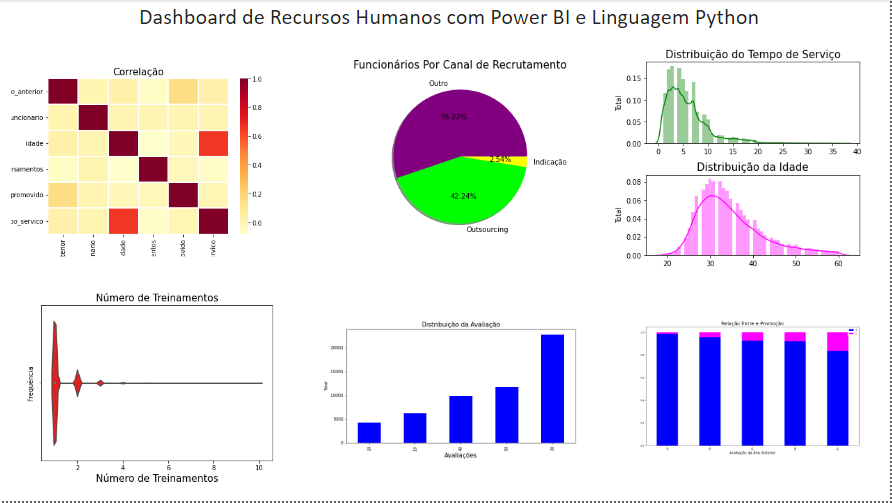

This screenshot's page, from the dashboard's own definition file:
{"tool":"powerbi","page":{"name":"Página 1","canvas":[1280,720],"ordinal":0},"visuals":[{"type":"textbox","box":[10.1,0,1270.4,57.5],"z":0},{"type":"pythonVisual","fields":{"Values":["dadosRH_modificado.aval_ano_anterior","dadosRH_modificado.id_funcionario","dadosRH_modificado.idade","dadosRH_modificado.numero_treinamentos","dadosRH_modificado.promovido","dadosRH_modificado.tempo_servico"]},"box":[10.8,57,428.6,331.5],"z":1},{"type":"pythonVisual","fields":{"Values":["dadosRH_modificado.canal_recrutamento"]},"box":[439.4,57,434.8,331.5],"z":2},{"type":"pythonVisual","fields":{"Values":["dadosRH_modificado.tempo_servico","dadosRH_modificado.id_funcionario"]},"box":[874.2,66.3,405.5,161.9],"z":3},{"type":"pythonVisual","fields":{"Values":["dadosRH_modificado.idade","dadosRH_modificado.id_funcionario"]},"box":[874.2,228.2,405.5,160.3],"z":4},{"type":"pythonVisual","fields":{"Values":["dadosRH_modificado.numero_treinamentos","dadosRH_modificado.id_funcionario"]},"box":[0,388.5,439.4,322.2],"z":5},{"type":"pythonVisual","fields":{"Values":["dadosRH_modificado.aval_ano_anterior","dadosRH_modificado.id_funcionario"]},"box":[439.4,388.5,434.8,331.5],"z":6},{"type":"pythonVisual","fields":{"Values":["dadosRH_modificado.aval_ano_anterior","dadosRH_modificado.promovido","dadosRH_modificado.id_funcionario"]},"box":[874.2,388.5,405.5,331.5],"z":7}]}

Visuals, with their boxes in screenshot pixels (x1, y1, x2, y2), scaled from the page's 1280x720 canvas onto the 892x503 screenshot:
textbox: select_region(7, 0, 891, 40)
pythonVisual - dadosRH_modificado.aval_ano_anterior x dadosRH_modificado.id_funcionario: select_region(8, 40, 306, 271)
pythonVisual - dadosRH_modificado.canal_recrutamento: select_region(306, 40, 609, 271)
pythonVisual - dadosRH_modificado.tempo_servico x dadosRH_modificado.id_funcionario: select_region(609, 46, 891, 159)
pythonVisual - dadosRH_modificado.idade x dadosRH_modificado.id_funcionario: select_region(609, 159, 891, 271)
pythonVisual - dadosRH_modificado.numero_treinamentos x dadosRH_modificado.id_funcionario: select_region(0, 271, 306, 497)
pythonVisual - dadosRH_modificado.aval_ano_anterior x dadosRH_modificado.id_funcionario: select_region(306, 271, 609, 502)
pythonVisual - dadosRH_modificado.aval_ano_anterior x dadosRH_modificado.promovido: select_region(609, 271, 891, 502)
